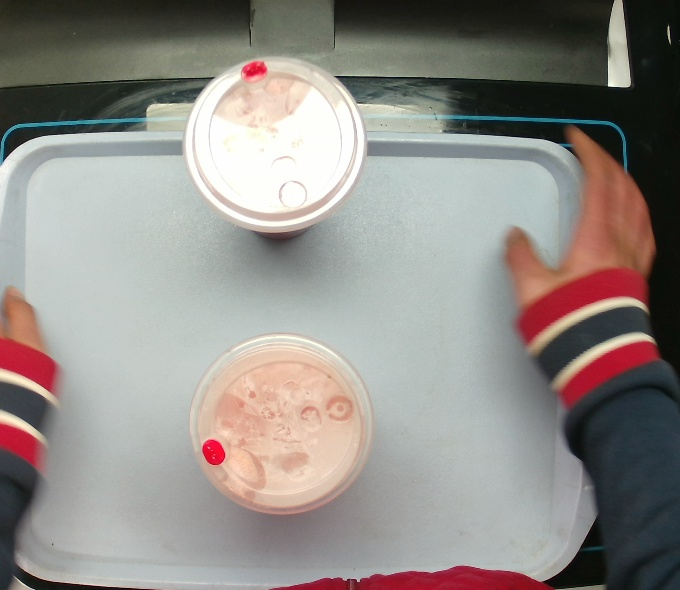wcq-XiGuaZhi: (179, 51, 368, 242), (186, 331, 376, 517)
